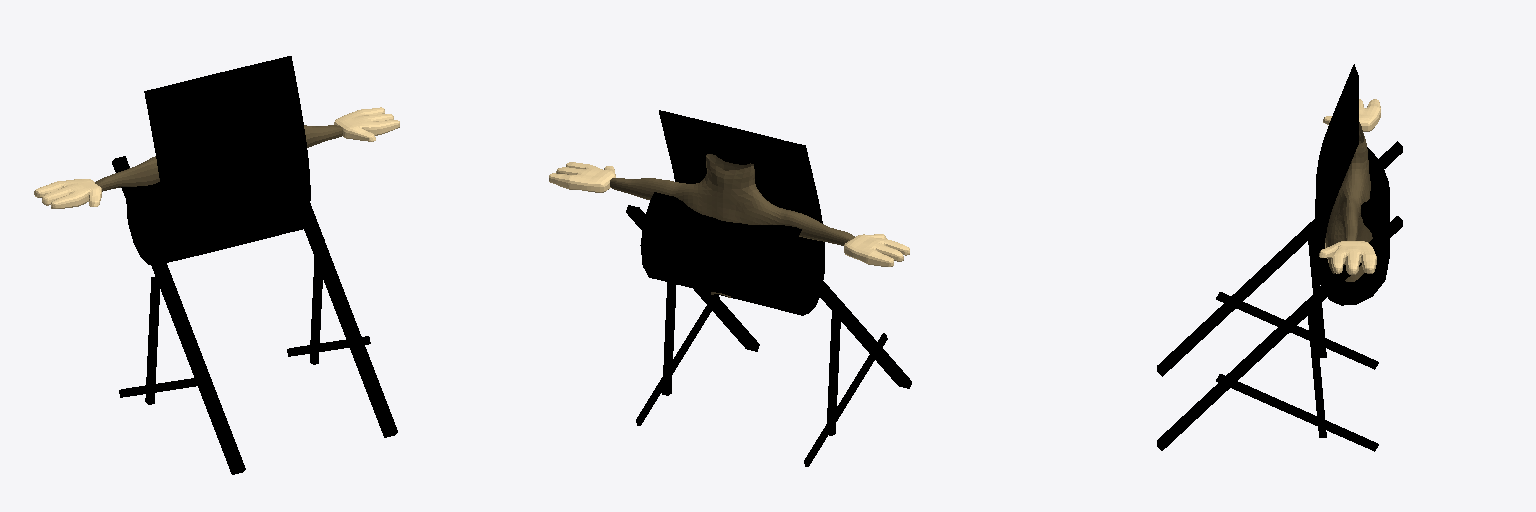
The picture shows the model from 3 angles: view 1: azimuth 30°, elevation 25°; view 2: azimuth 150°, elevation 25°; view 3: azimuth 270°, elevation 25°; orthographic projection.
Visible parts, largest first — view 1: polySurface5, pCube19, pCube26, model_monkey1:pCube21 model_monkey1:polySurface69 model_monkey1:, model_monkey1:pCube21 model_monkey1:polySurface68 polySurface19 , pCube24, pCube21, pCube23, model_monkey1:pCube21 model_monkey1:polySurface63 polySurface19 , pCube20; view 2: polySurface5, model_monkey1:pCube21 model_monkey1:polySurface69 model_monkey1:, model_monkey1:pCube21 model_monkey1:polySurface64 polySurface19 , pCube19, model_monkey1:pCube21 model_monkey1:polySurface63 polySurface19 , model_monkey1:pCube21 model_monkey1:polySurface68 polySurface19 , pCube26, pCube24, pCube23, pCube21, pCube20; view 3: polySurface5, pCube26, pCube19, model_monkey1:pCube21 model_monkey1:polySurface69 model_monkey1:, model_monkey1:pCube21 model_monkey1:polySurface63 polySurface19 , pCube20, model_monkey1:pCube21 model_monkey1:polySurface64 polySurface19 , pCube23, pCube21, pCube24.
Part boxes in pixels (x1,y1,x2,y2): polySurface5: (126, 56, 310, 264); pCube19: (112, 156, 245, 474); pCube26: (303, 203, 397, 437); model_monkey1:pCube21 model_monkey1:polySurface69 model_monkey1:: (34, 107, 399, 208); model_monkey1:pCube21 model_monkey1:polySurface68 polySurface19 : (95, 157, 159, 191); pCube24: (145, 276, 159, 404); pCube21: (310, 239, 324, 364); pCube23: (119, 377, 202, 397); model_monkey1:pCube21 model_monkey1:polySurface63 polySurface19 : (304, 125, 342, 147); pCube20: (287, 336, 370, 356); polySurface5: (640, 110, 824, 315); model_monkey1:pCube21 model_monkey1:polySurface69 model_monkey1:: (549, 162, 909, 266); model_monkey1:pCube21 model_monkey1:polySurface64 polySurface19 : (665, 163, 851, 297); pCube19: (778, 242, 911, 388); model_monkey1:pCube21 model_monkey1:polySurface63 polySurface19 : (610, 154, 734, 294); model_monkey1:pCube21 model_monkey1:polySurface68 polySurface19 : (723, 193, 854, 245); pCube26: (626, 205, 759, 351); pCube24: (827, 300, 841, 435); pCube23: (804, 333, 887, 466); pCube21: (662, 282, 676, 395); pCube20: (636, 294, 719, 425); polySurface5: (1315, 64, 1389, 305); pCube26: (1157, 216, 1402, 450); pCube19: (1157, 141, 1402, 376); model_monkey1:pCube21 model_monkey1:polySurface69 model_monkey1:: (1319, 99, 1380, 274); model_monkey1:pCube21 model_monkey1:polySurface63 polySurface19 : (1327, 140, 1371, 281); pCube20: (1216, 374, 1378, 451); model_monkey1:pCube21 model_monkey1:polySurface64 polySurface19 : (1325, 122, 1372, 247); pCube23: (1216, 292, 1378, 369); pCube21: (1307, 308, 1326, 437); pCube24: (1308, 235, 1326, 357).
Bounding box in the file's own units: 5.69 × 4.86 × 3.48.
7 materials, 2 textured.